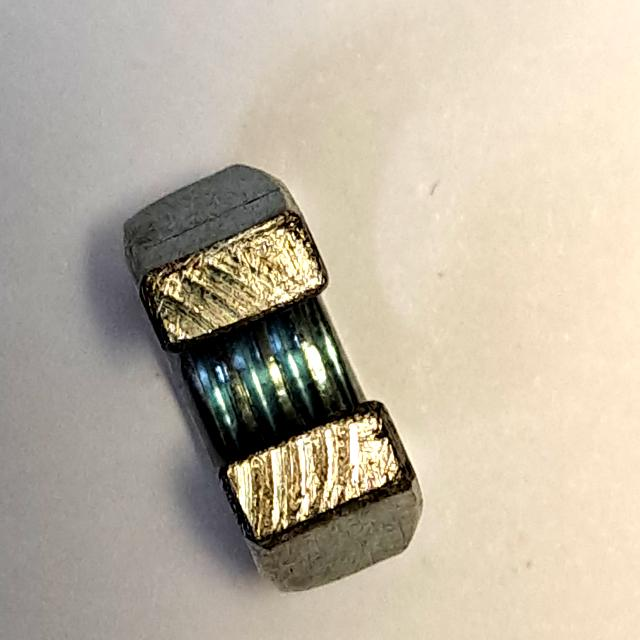Side-Fracture: (113, 139, 443, 606)
